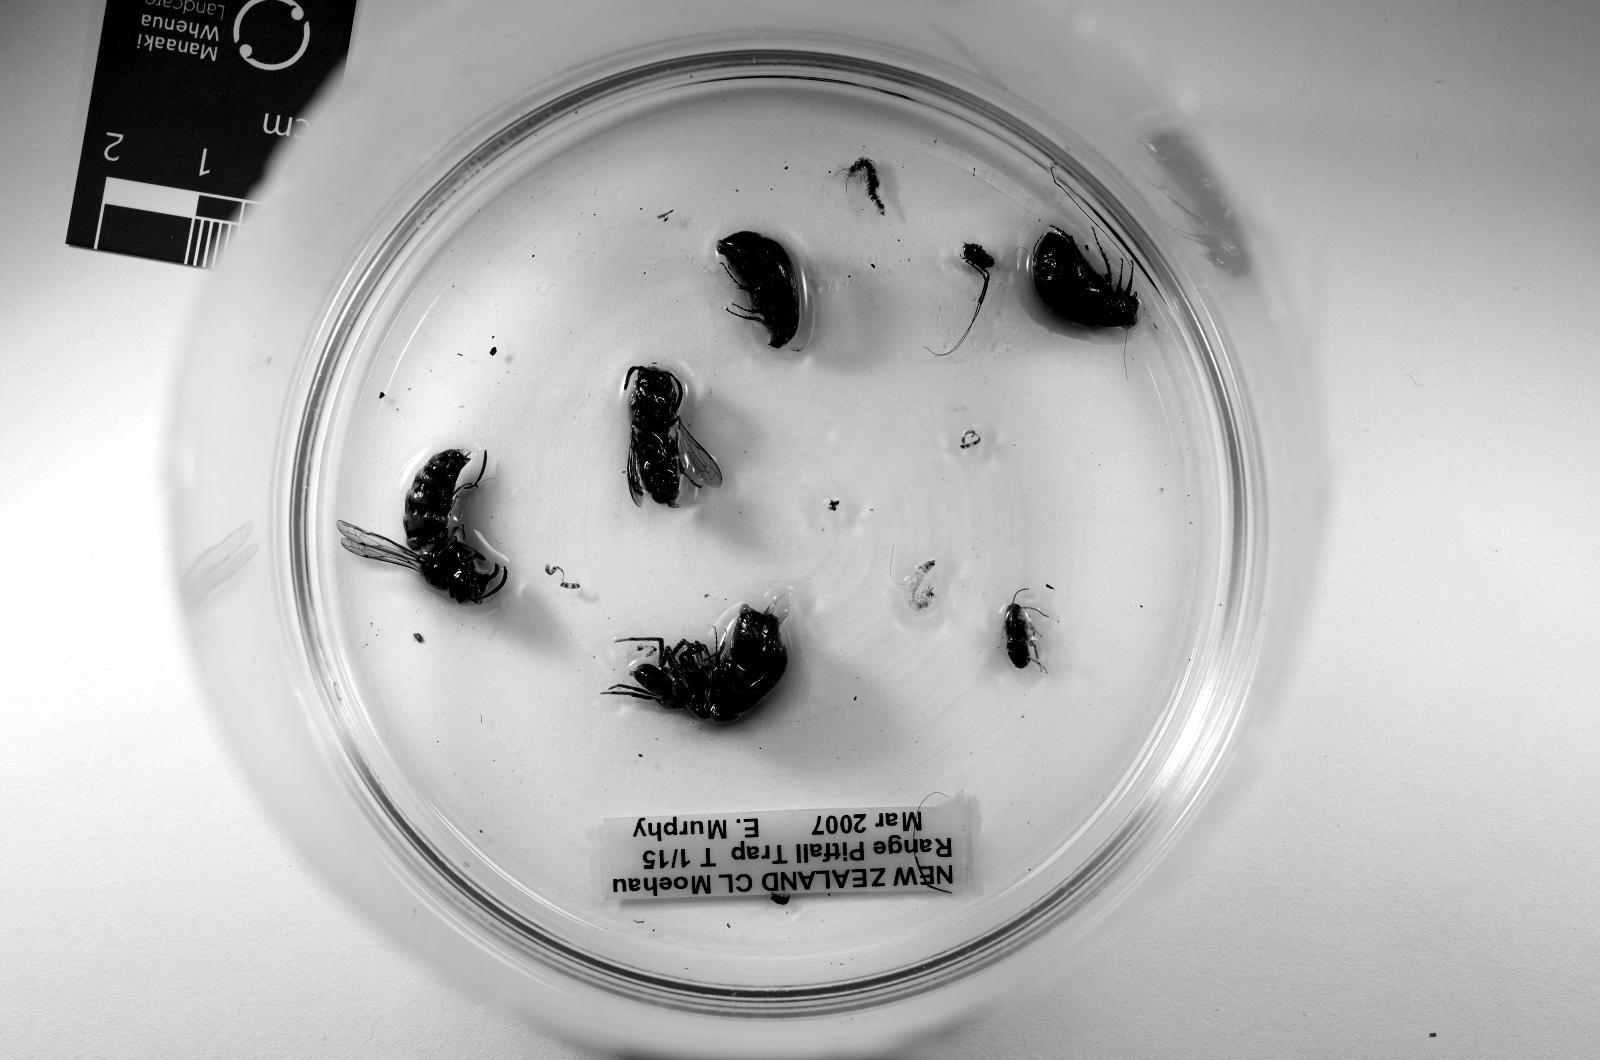araneae: (606, 637, 712, 708)
blattodea: (1003, 599, 1047, 671)
chilopoda: (847, 158, 884, 214)
coleoptera: (688, 596, 791, 720), (1031, 227, 1141, 329), (716, 233, 800, 348), (772, 894, 791, 907)
opiliones: (938, 242, 994, 357)
vespidae: (338, 450, 506, 602), (625, 366, 722, 506)
